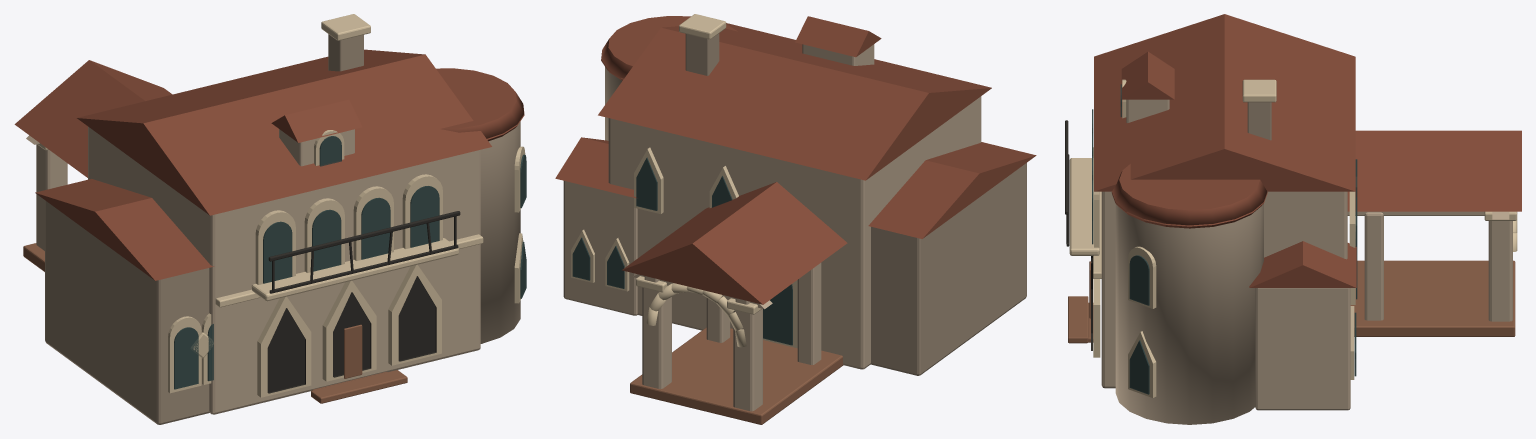
The model's file is sun-ke-villa-identity.glb.
3 renders of one model, left to right at view 1: azimuth 30°, elevation 25°; view 2: azimuth 150°, elevation 25°; view 3: azimuth 270°, elevation 25°, orthographic. The views are drawn at different scales.
Visible parts, largest first — view 1: SunKeVilla_Identity_Runtime; view 2: SunKeVilla_Identity_Runtime; view 3: SunKeVilla_Identity_Runtime.
Part boxes in pixels (box(x1,y1,x2,y2)): SunKeVilla_Identity_Runtime: box(14, 14, 526, 424); SunKeVilla_Identity_Runtime: box(555, 14, 1036, 424); SunKeVilla_Identity_Runtime: box(1065, 14, 1521, 424).
Bounding box in the file's own units: 7.58 × 5.05 × 7.58.
